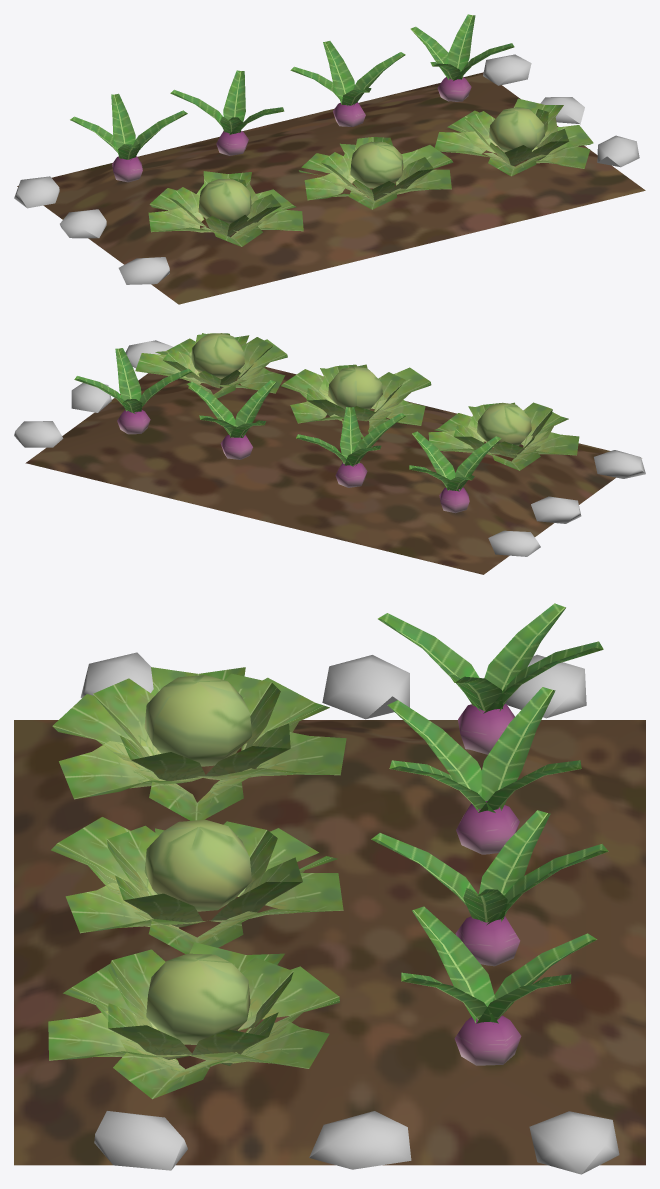
The model's file is SE_Garden_Poor.glb.
3 renders of one model, top to bottom at view 1: azimuth 30°, elevation 25°; view 2: azimuth 150°, elevation 25°; view 3: azimuth 270°, elevation 25°, orthographic. The views are drawn at different scales.
Parts seen in each view (by area): view 1: SE_Garden_Poor; view 2: SE_Garden_Poor; view 3: SE_Garden_Poor.
Part boxes in pixels (x1,y1,x2,y2): SE_Garden_Poor: (14, 14, 645, 304); SE_Garden_Poor: (14, 333, 645, 574); SE_Garden_Poor: (14, 603, 645, 1174).
Size of the model in its own units: 2.24 by 0.3302 by 1.2.
